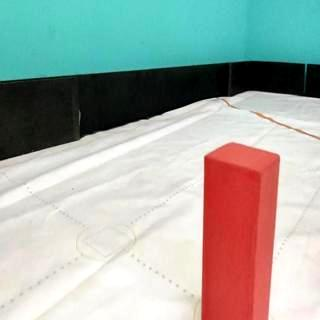redbox: (200, 139, 280, 320)
